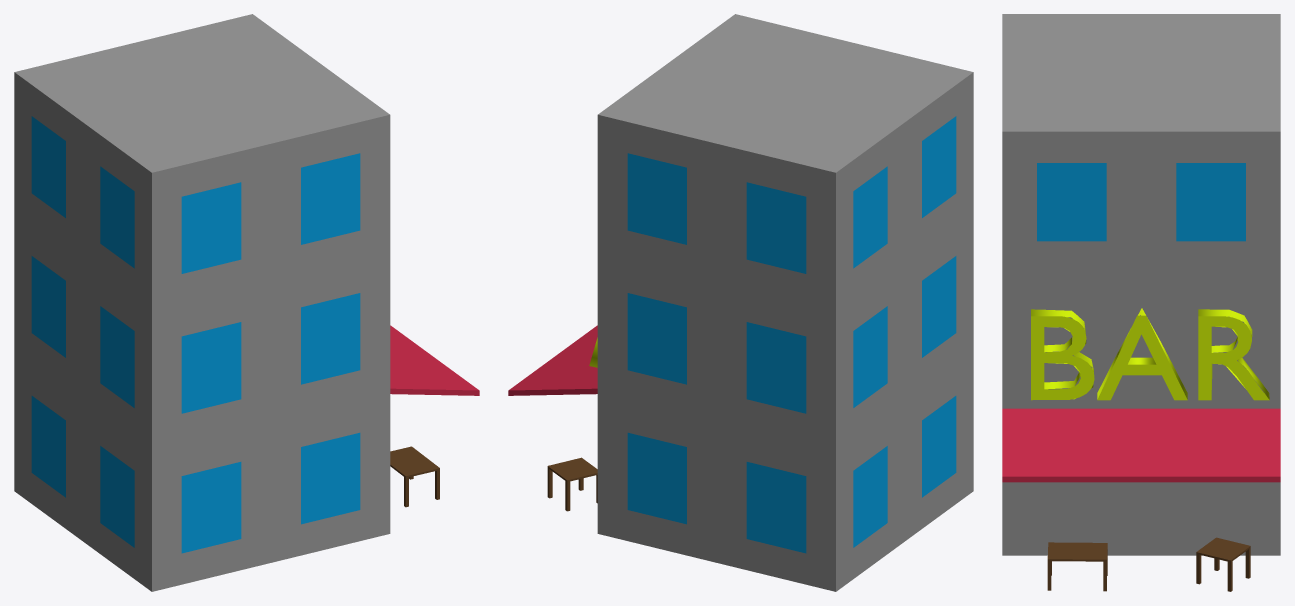
File: bar.fbx
The picture shows the model from 3 angles, left to right: view 1: azimuth 30°, elevation 25°; view 2: azimuth 150°, elevation 25°; view 3: azimuth 270°, elevation 25°; orthographic projection.
Visible parts, largest first — view 1: bar; view 2: bar; view 3: bar.
Part boxes in pixels (box(x1,y1,x2,y2)): bar: box(14, 14, 479, 591); bar: box(508, 14, 973, 591); bar: box(1002, 14, 1280, 591).
Size of the model in its own units: 5.5 by 6.72 by 4.
Materials: 2 (2 with a texture image).
